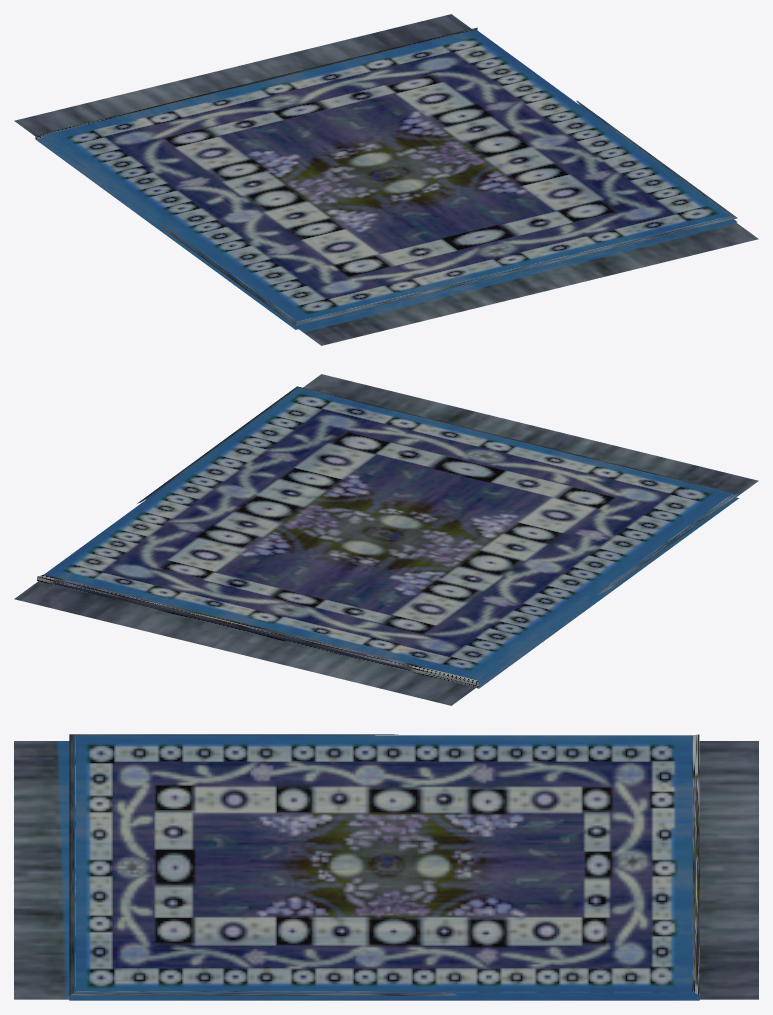
The model's file is blueRug.fbx.
3 views of the same model, one above another, from view 1: azimuth 30°, elevation 25°; view 2: azimuth 150°, elevation 25°; view 3: azimuth 270°, elevation 25° (orthographic). The views are drawn at different scales.
Visible parts, largest first — view 1: polySurface1; view 2: polySurface1; view 3: polySurface1.
Part boxes in pixels (left/top/right/bottom): polySurface1: left=14, top=14, right=758, bottom=345; polySurface1: left=14, top=374, right=758, bottom=705; polySurface1: left=14, top=734, right=758, bottom=1000.
Bounding box in the file's own units: 12.24 × 0.1398 × 14.75.
